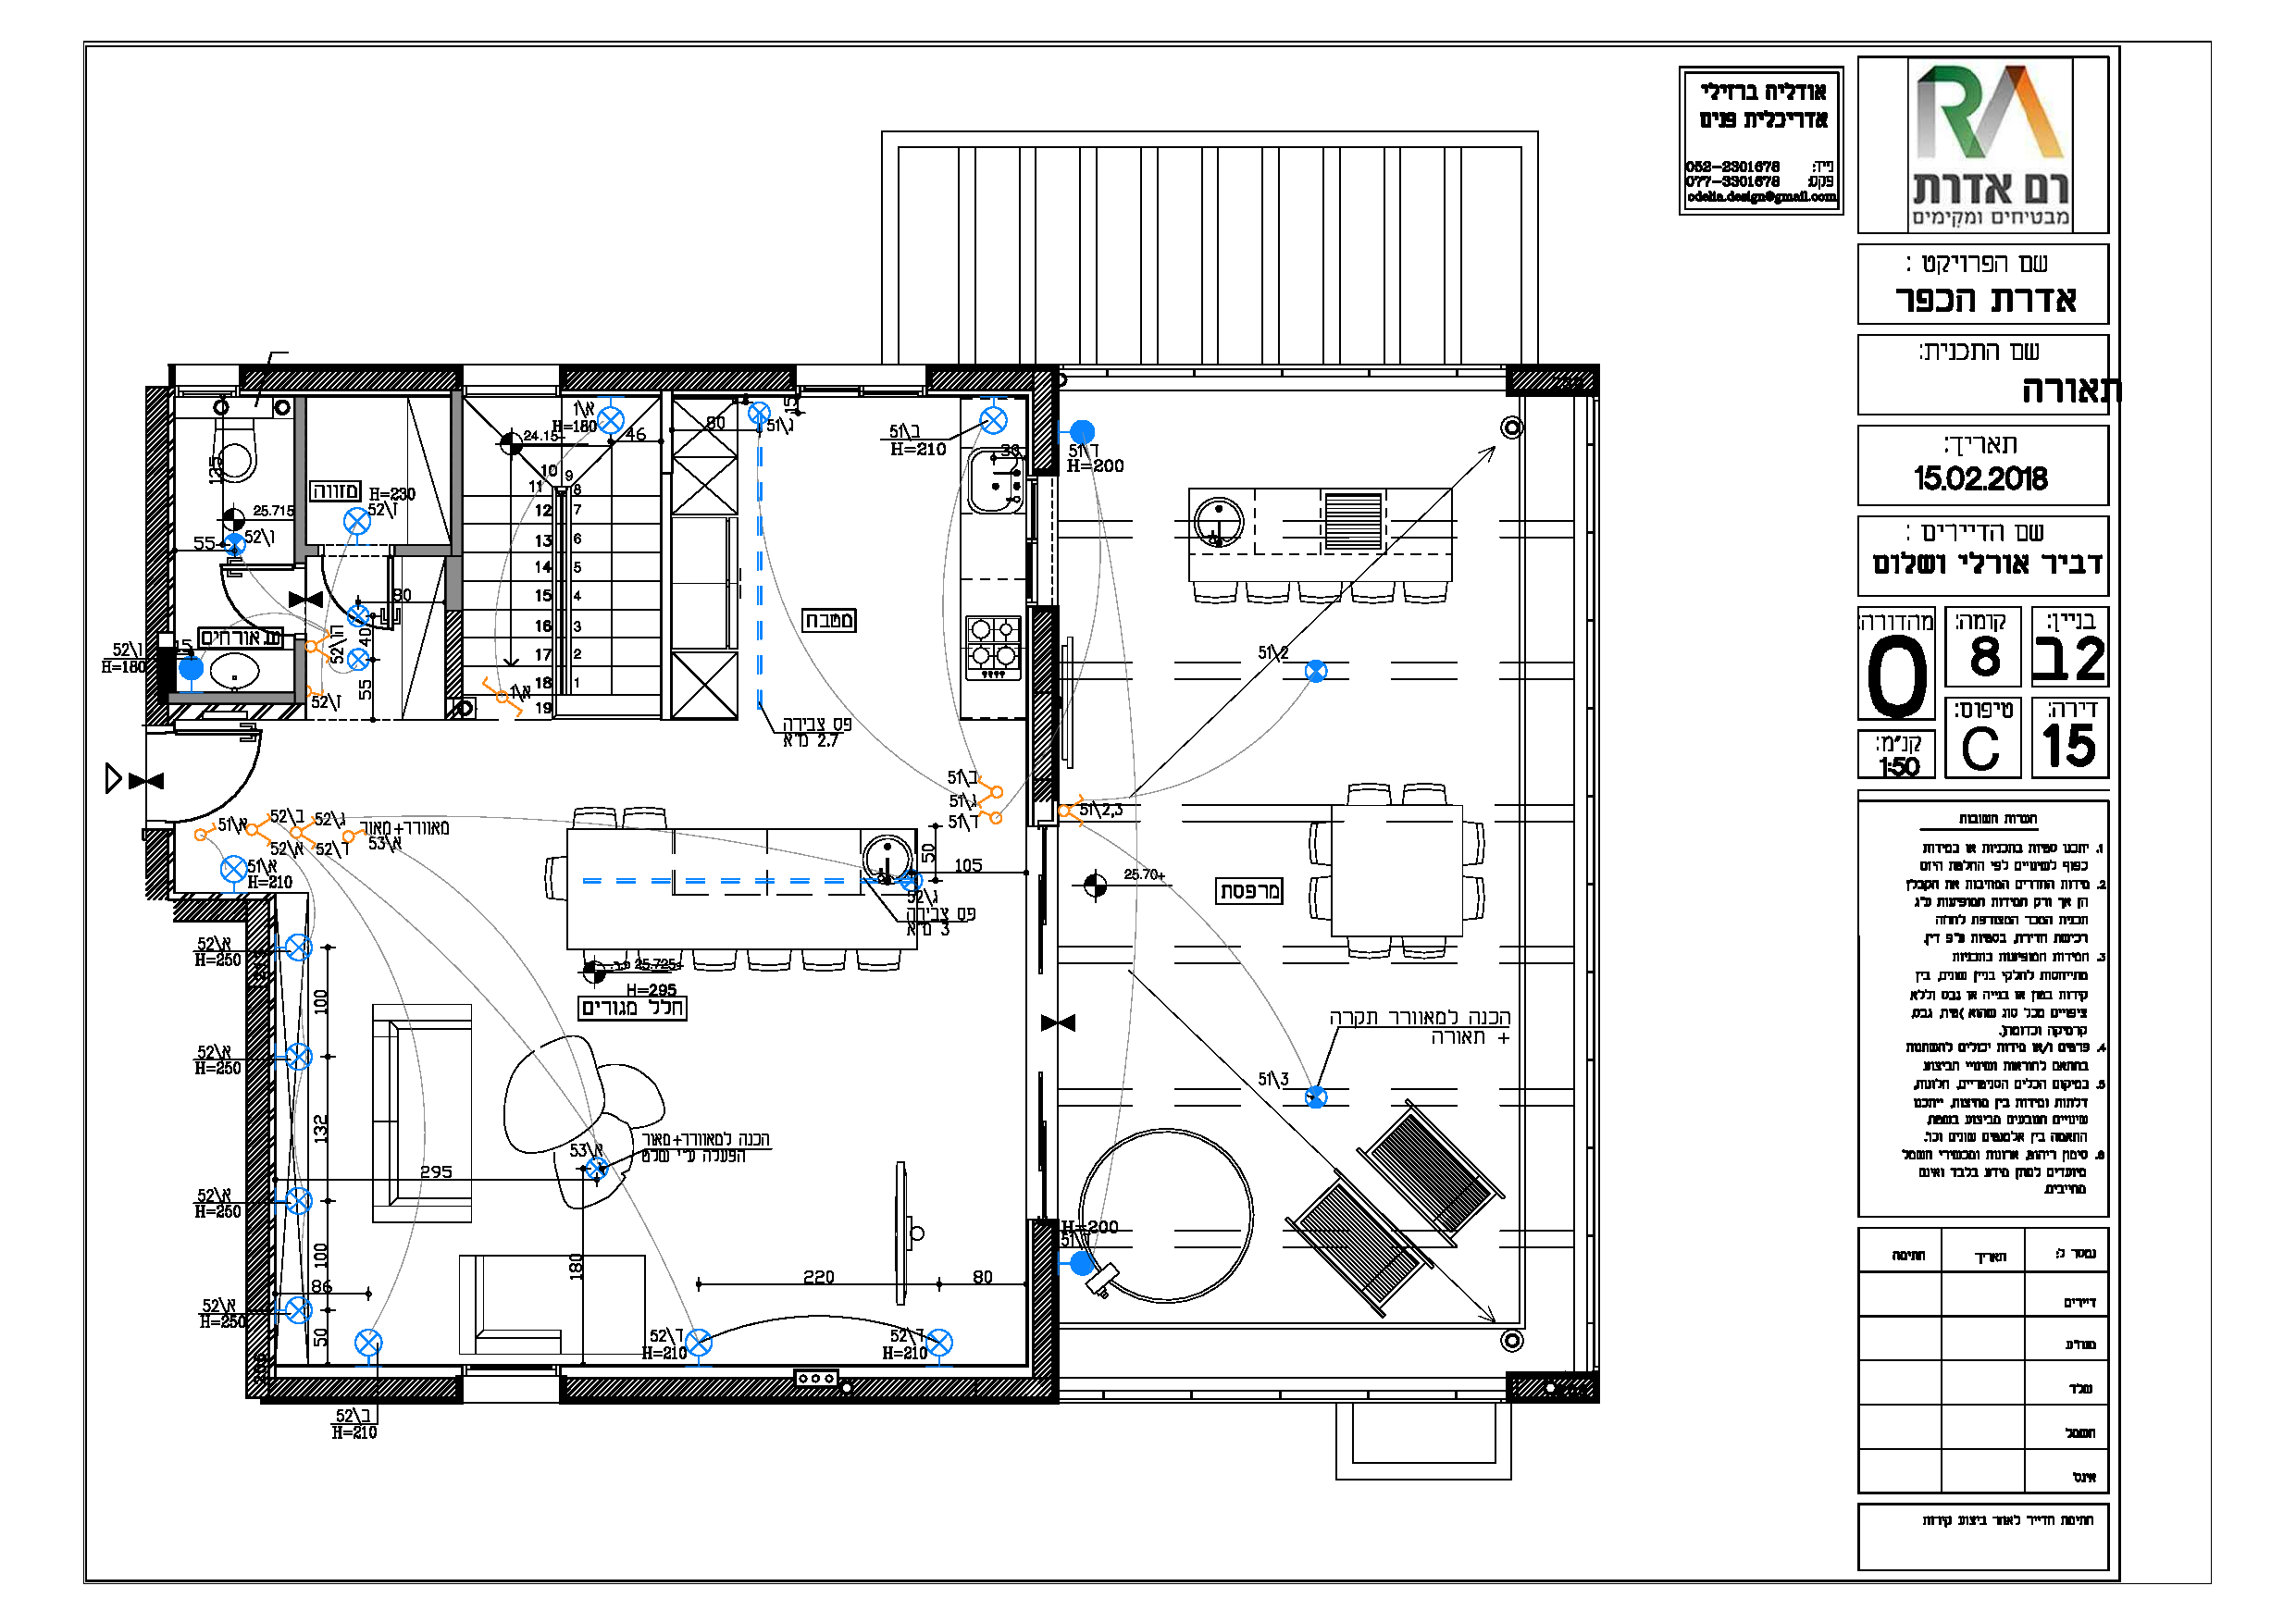wall: (144, 388, 167, 634), (567, 369, 783, 390), (567, 1377, 792, 1396), (1033, 1224, 1052, 1377), (279, 372, 443, 390)
window: (460, 1358, 562, 1421), (798, 360, 926, 406), (174, 357, 239, 400)
